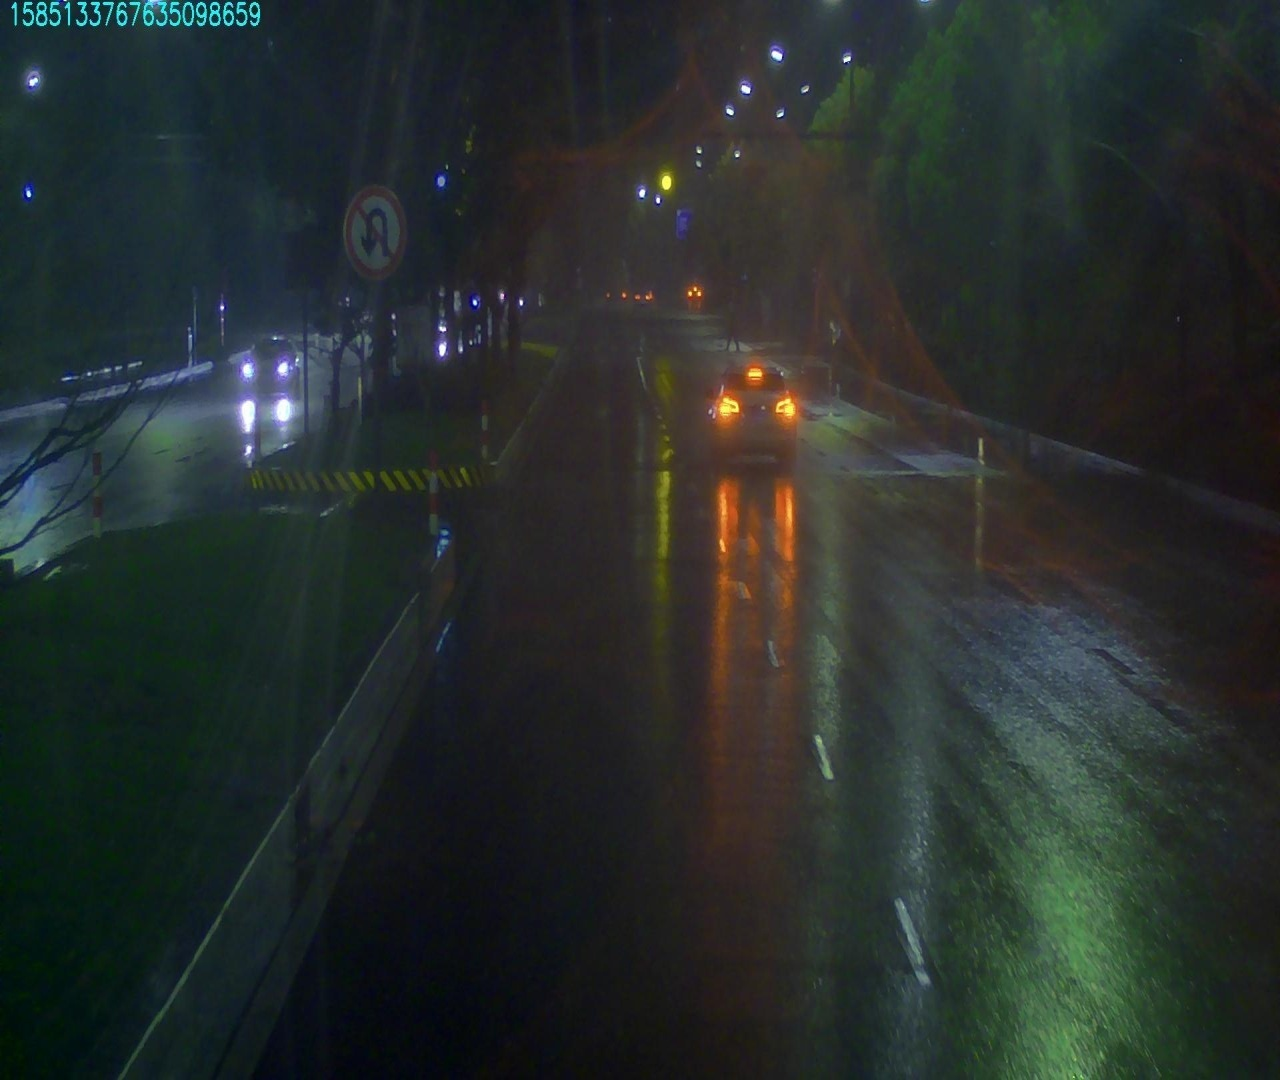yellow: (658, 169, 676, 199)
